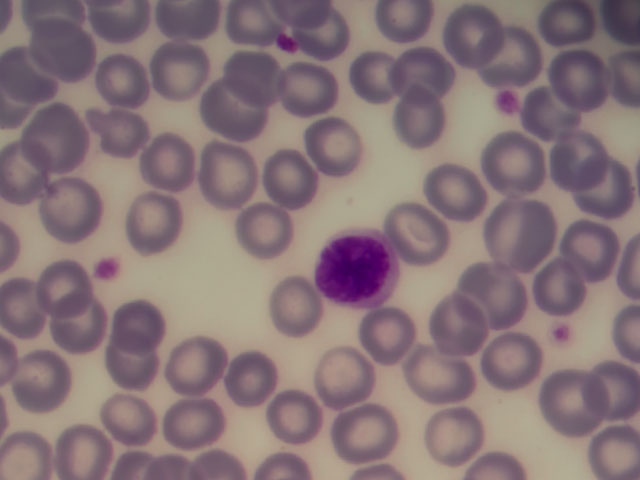Platelets: (497, 88, 523, 117), (92, 258, 124, 279), (551, 322, 575, 341), (278, 32, 300, 52)
RBC: (28, 18, 101, 86), (83, 43, 156, 111), (86, 94, 159, 162), (23, 107, 96, 175), (35, 174, 108, 242), (114, 189, 187, 257), (131, 133, 204, 201), (187, 131, 260, 199), (198, 85, 271, 153), (210, 40, 283, 108), (148, 35, 221, 103), (272, 60, 345, 128), (301, 109, 374, 177), (249, 140, 322, 208), (220, 195, 293, 263), (385, 83, 458, 151), (391, 36, 464, 104), (339, 41, 412, 109), (430, 2, 503, 70), (475, 5, 548, 73), (550, 40, 623, 108), (525, 80, 598, 148), (549, 122, 622, 190), (567, 168, 640, 236), (488, 191, 561, 259), (475, 126, 548, 194), (422, 157, 495, 225), (388, 195, 461, 263), (264, 271, 337, 339), (157, 327, 230, 395), (103, 331, 176, 399), (108, 286, 181, 354), (55, 302, 128, 370), (27, 252, 100, 320), (7, 356, 80, 424), (98, 379, 171, 447), (44, 412, 117, 480), (1, 412, 74, 480), (161, 390, 234, 458), (209, 344, 282, 412), (252, 374, 325, 442), (303, 341, 376, 409), (325, 394, 398, 462), (396, 345, 469, 413), (356, 309, 429, 377), (414, 295, 487, 363), (460, 252, 533, 320), (476, 324, 549, 392), (415, 393, 488, 461), (537, 370, 610, 438), (567, 357, 640, 425), (522, 254, 595, 322), (553, 216, 626, 284), (538, 1, 604, 45)
WBC: (317, 225, 399, 309)
